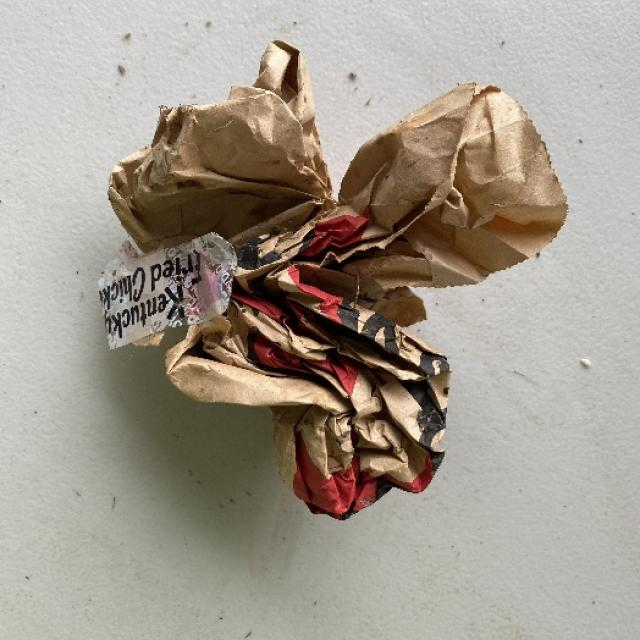paper: (101, 38, 568, 519)
